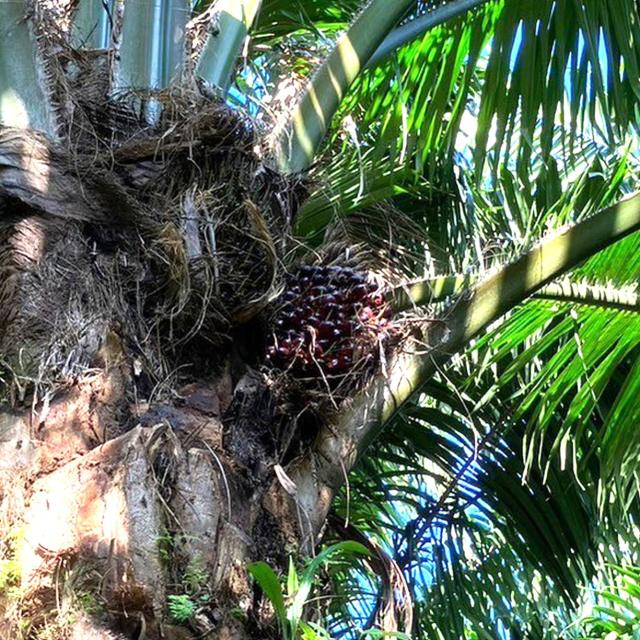ripe: (256, 254, 419, 401)
